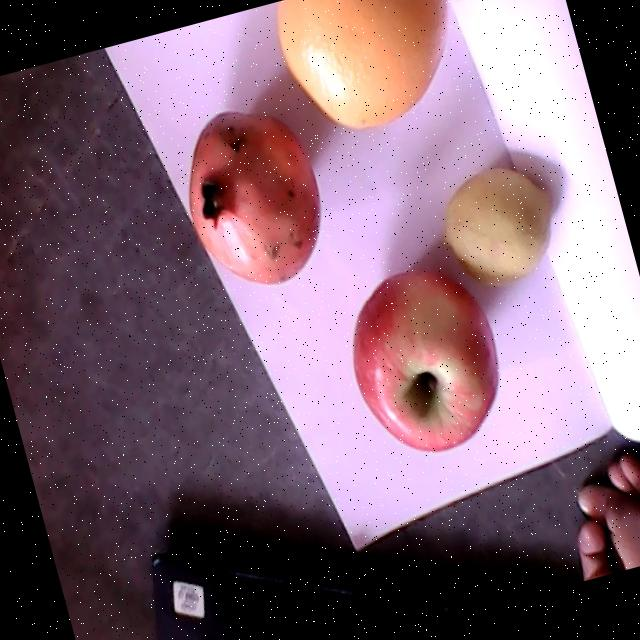apple: (352, 270, 496, 452)
lemon: (442, 166, 552, 285)
orange: (274, 0, 446, 128)
pomegranate: (188, 111, 319, 282)
